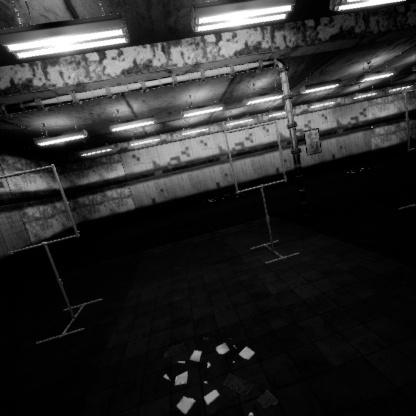gate: (224, 221, 291, 296), (404, 263, 416, 334)
